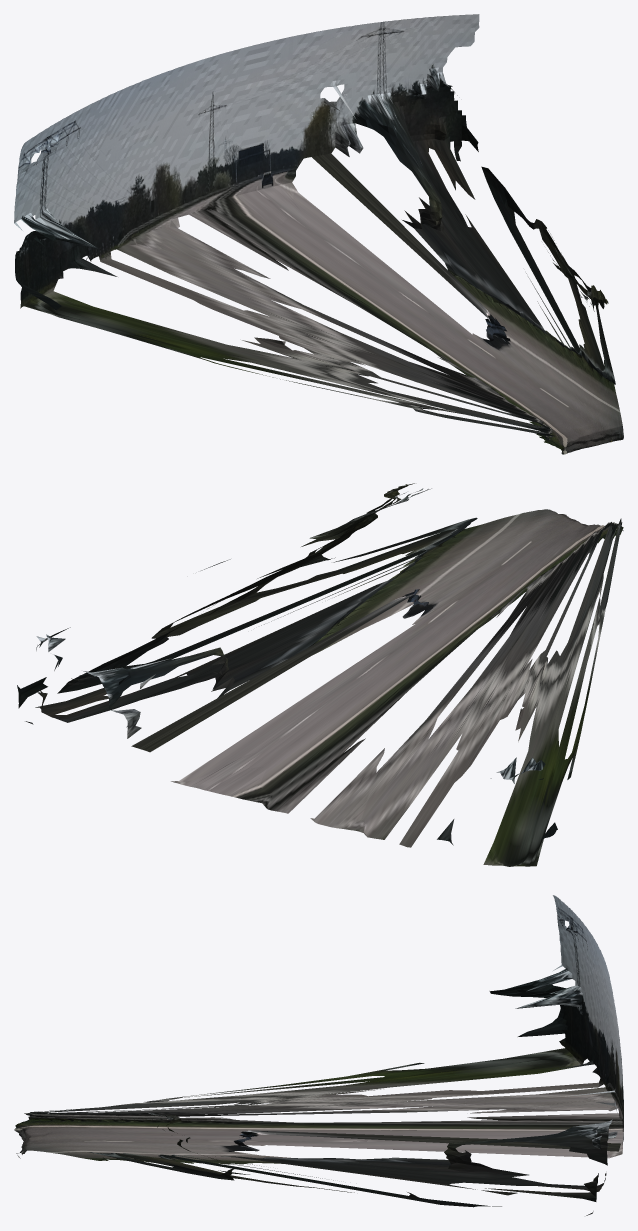
The picture shows the model from 3 angles, top to bottom: view 1: azimuth 30°, elevation 25°; view 2: azimuth 150°, elevation 25°; view 3: azimuth 270°, elevation 25°; orthographic projection. The views are drawn at different scales.
Visible parts, largest first — view 1: defaultobject; view 2: defaultobject; view 3: defaultobject.
Part boxes in pixels (box(x1,y1,x2,y2)): defaultobject: box(14, 14, 623, 454); defaultobject: box(17, 483, 623, 866); defaultobject: box(14, 895, 623, 1215).
Bounding box in the file's own units: 35.88 × 13.27 × 44.66.
Materials: 1 (1 with a texture image).
